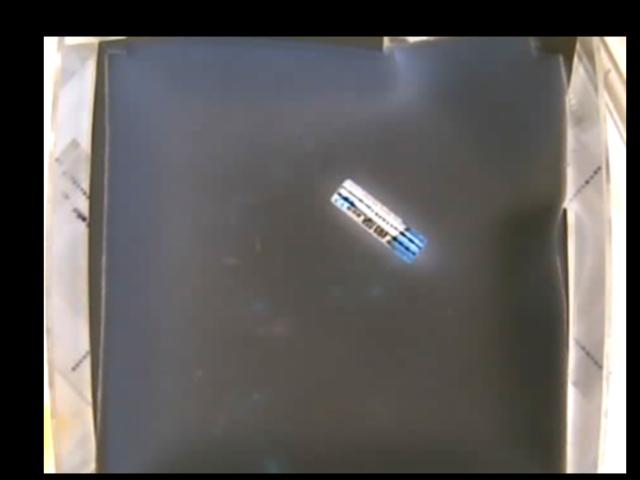Battery: (331, 175, 426, 260)
